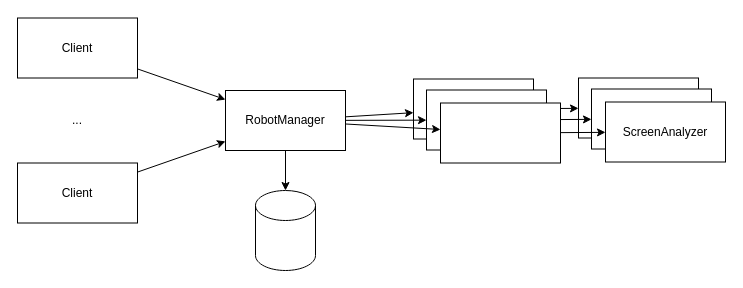
This 743x288 diagram has some shape labels left out. The centre of each missing label's shape, as x and y in pixels:
DB: the point at 285,230
Robot: the point at 500,132
